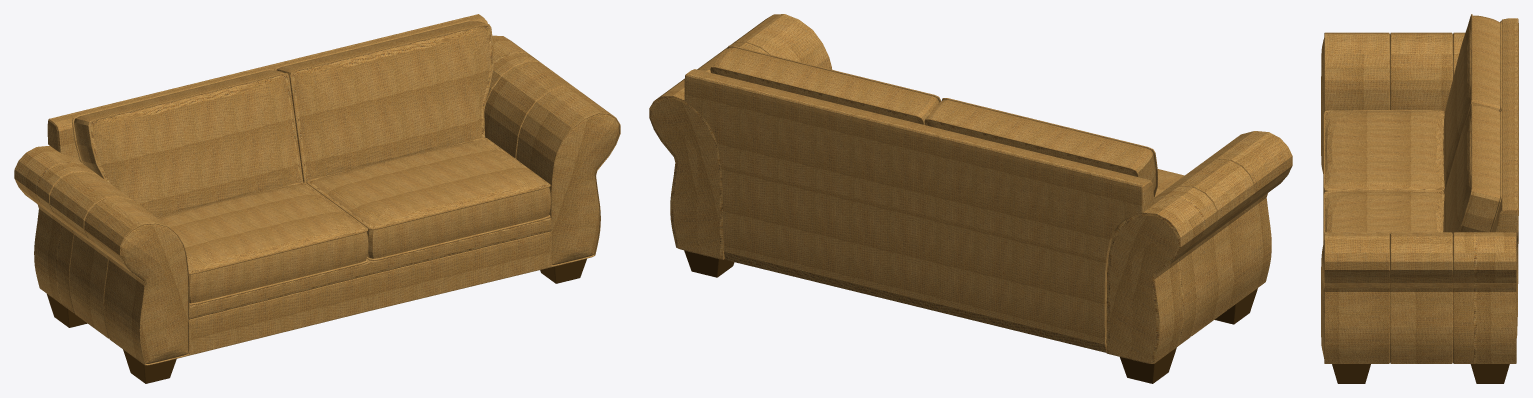
Rendered from sofa_yellow.glb.
3 renders of one model, left to right at view 1: azimuth 30°, elevation 25°; view 2: azimuth 150°, elevation 25°; view 3: azimuth 270°, elevation 25°, orthographic. The views are drawn at different scales.
Visible parts, largest first — view 1: Plane, Cube.004_Cube.005, Cube.002_Cube.007, Cube_Cube.001, Cube.001_Cube.006; view 2: Cube_Cube.001, Plane, Cube.004_Cube.005, Cube.001_Cube.006; view 3: Plane, Cube.002_Cube.007, Cube.004_Cube.005, Cube_Cube.001, Cube.001_Cube.006.
Boxes of the visible parts, bbox=[...] form: Plane: bbox=[14, 35, 620, 365]; Cube.004_Cube.005: bbox=[72, 20, 493, 217]; Cube.002_Cube.007: bbox=[156, 137, 550, 305]; Cube_Cube.001: bbox=[47, 14, 487, 161]; Cube.001_Cube.006: bbox=[47, 258, 586, 383]; Cube_Cube.001: bbox=[684, 69, 1154, 352]; Plane: bbox=[649, 14, 1292, 363]; Cube.004_Cube.005: bbox=[710, 45, 1157, 197]; Cube.001_Cube.006: bbox=[684, 250, 1257, 383]; Plane: bbox=[1321, 32, 1516, 363]; Cube.002_Cube.007: bbox=[1323, 110, 1444, 242]; Cube.004_Cube.005: bbox=[1443, 14, 1501, 233]; Cube_Cube.001: bbox=[1492, 18, 1518, 337]; Cube.001_Cube.006: bbox=[1332, 364, 1509, 383].
Bounding box in the file's own units: 204 × 79.95 × 76.91.
2 materials, 1 textured.
